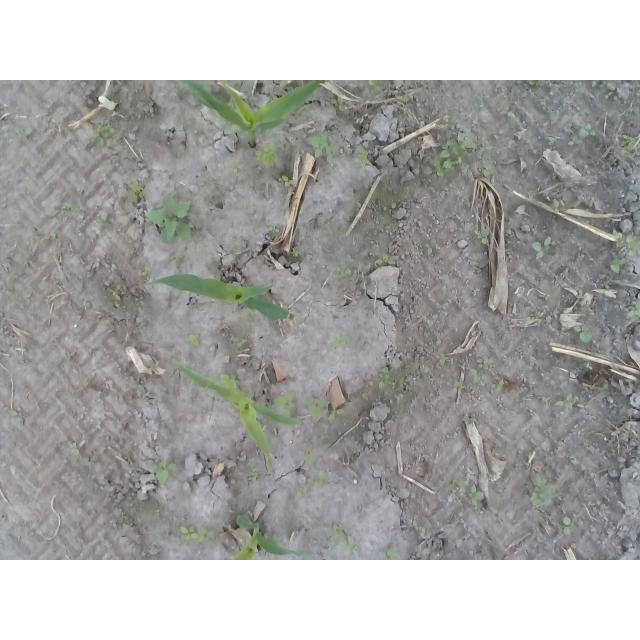Maize: (174, 362, 303, 474), (177, 80, 324, 149), (146, 274, 294, 322), (233, 513, 319, 559)
Weeds: (424, 130, 492, 177), (144, 190, 195, 246), (527, 473, 561, 508), (306, 129, 338, 160), (328, 521, 358, 551), (90, 116, 121, 145), (148, 457, 177, 487), (180, 528, 225, 545), (612, 230, 640, 257), (302, 397, 330, 424), (568, 120, 597, 145), (255, 143, 281, 170), (273, 391, 298, 417), (531, 237, 554, 259), (555, 392, 574, 416), (623, 134, 640, 160), (470, 367, 494, 385), (128, 180, 145, 205), (376, 367, 392, 393), (307, 473, 330, 489), (351, 147, 370, 166), (574, 325, 593, 344), (228, 159, 247, 177), (336, 261, 353, 280), (96, 213, 113, 231), (551, 198, 569, 214), (328, 96, 346, 112), (304, 448, 322, 464), (562, 516, 575, 537), (468, 485, 481, 506), (608, 258, 624, 275), (368, 80, 385, 96), (624, 303, 640, 320), (328, 409, 346, 424), (8, 408, 24, 424), (528, 80, 544, 96), (231, 335, 248, 350), (128, 377, 145, 392), (474, 230, 490, 245), (477, 356, 495, 369), (16, 127, 32, 141), (68, 440, 81, 456), (248, 458, 257, 481), (373, 255, 391, 266), (107, 287, 121, 301), (385, 546, 399, 560), (64, 200, 80, 212), (336, 337, 353, 348), (530, 308, 543, 321), (434, 352, 448, 364), (500, 107, 516, 117), (463, 415, 479, 425), (320, 431, 336, 441), (169, 254, 181, 267), (282, 176, 294, 189), (294, 487, 308, 497), (402, 95, 414, 106), (256, 420, 266, 433), (190, 335, 201, 346), (292, 245, 301, 258), (424, 242, 432, 255), (454, 480, 465, 489), (142, 267, 151, 277), (272, 225, 281, 235), (284, 144, 292, 155), (601, 382, 609, 393), (223, 375, 237, 381), (456, 384, 465, 393), (535, 553, 545, 560), (496, 380, 501, 388)
